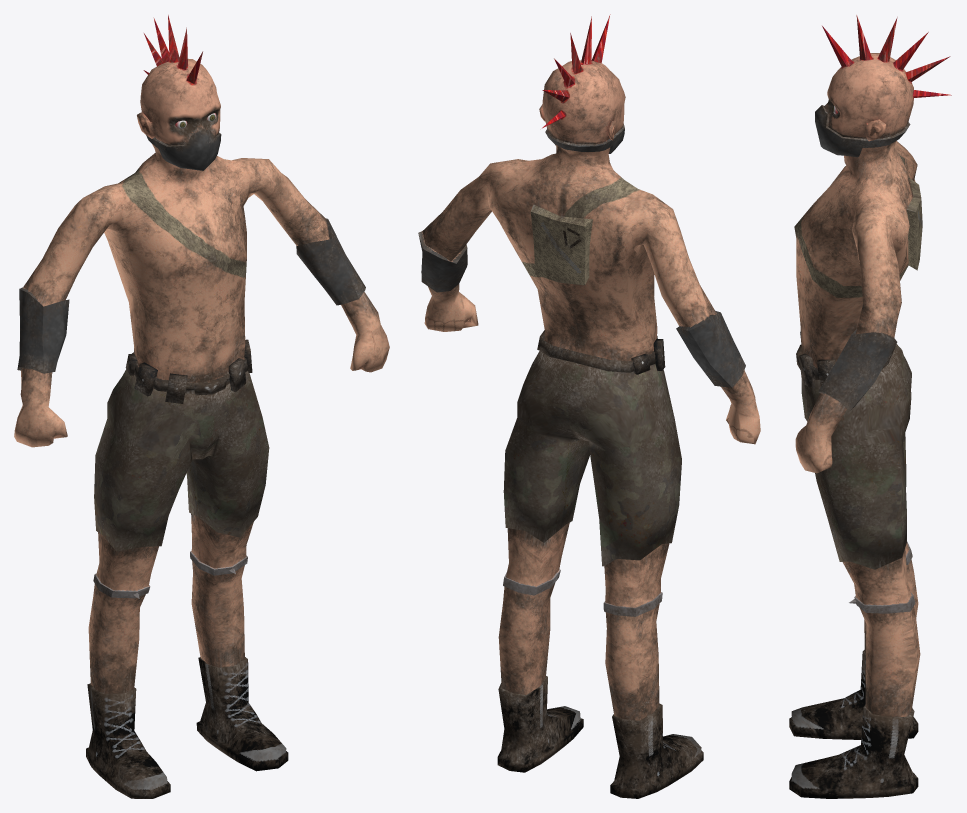
The model's file is Anim_idle_npc2.0022.obj.
3 views of the same model, side by side, from view 1: azimuth 30°, elevation 25°; view 2: azimuth 150°, elevation 25°; view 3: azimuth 270°, elevation 25° (orthographic).
Visible parts, largest first — view 1: polySurface1; view 2: polySurface1; view 3: polySurface1.
Boxes of the visible parts, box(x1,y1,x2,y2) form: polySurface1: box(14, 15, 389, 798); polySurface1: box(418, 14, 760, 798); polySurface1: box(789, 15, 951, 798).
Bounding box in the file's own units: 5.11 × 10.2 × 2.02.
Materials: 2 (2 with a texture image).
